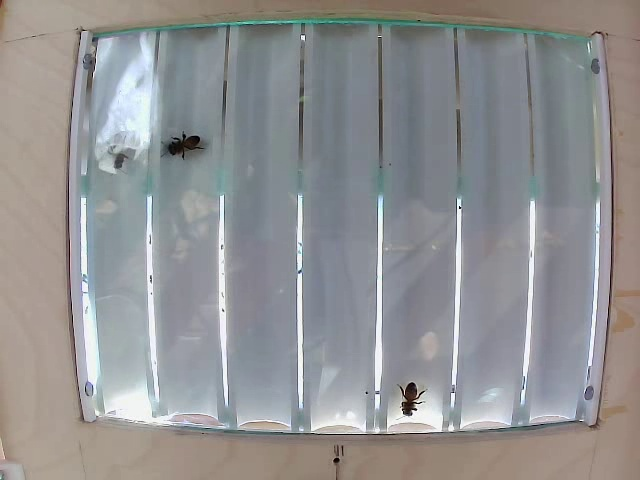bee: (158, 121, 212, 166), (393, 378, 430, 422)
